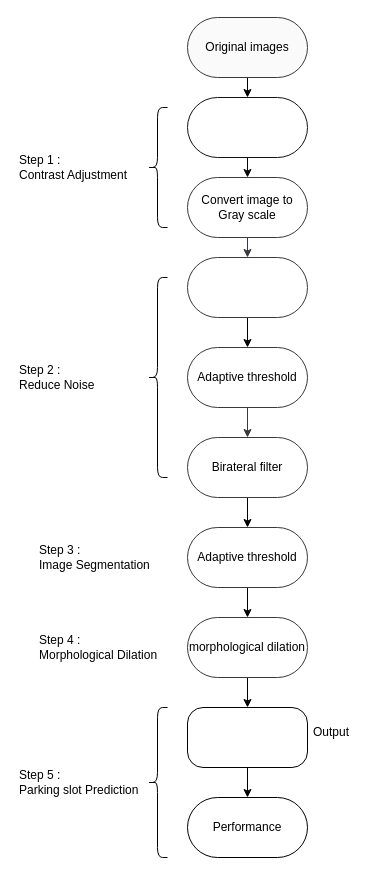
The diagram is 378 pixels wide and 875 high, and some of its shapes have lost their labels. The centre of each missing label's shape, as x and y in pixels:
"Adrjust contrast" belongs at [247,127].
"Gaussian filter" belongs at [247,287].
"Parking slot Detection" belongs at [247,737].
